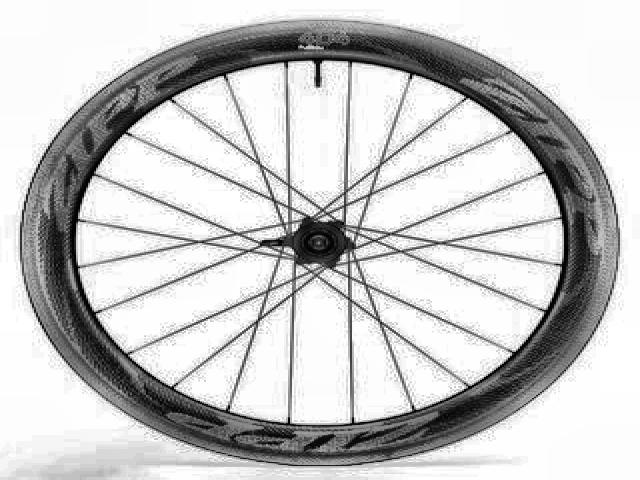wheel: (17, 17, 624, 472)
